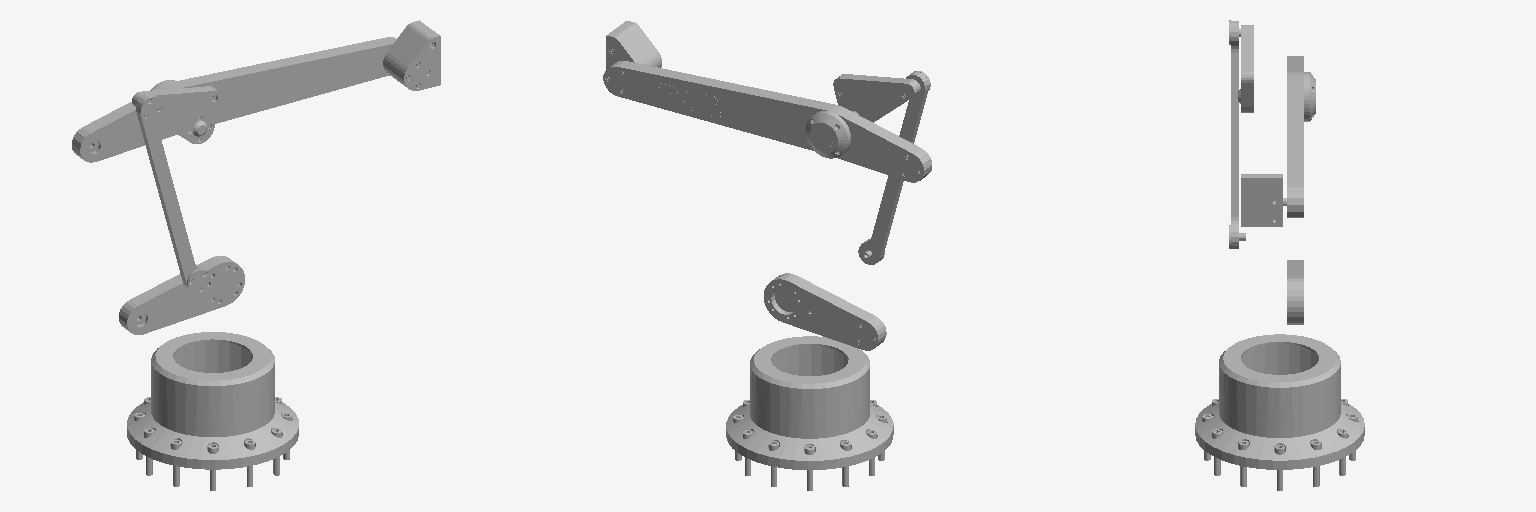
The robot description file, URDF, robot "vega_description":
<?xml version="1.0" encoding="utf-8"?>
<robot
  name="vega_description">

  <link
    name="Link_1">
    <inertial>
      <origin
        xyz="1.22743573927168E-05 -2.12020239797617E-06 0.0417491604335673"
        rpy="0 0 0" />
      <mass
        value="1.46638906209098" />
      <inertia
        ixx="0.00311535430398331"
        ixy="2.09807989848561E-07"
        ixz="1.66649061073481E-07"
        iyy="0.0031143541425315"
        iyz="3.36573233719113E-08"
        izz="0.00545821841694294" />
    </inertial>
    <visual>
      <origin
        xyz="0 0 0"
        rpy="1.571 0 0" />
      <geometry>
        <mesh
          filename="package://vega_description/meshes/Link_1.STL" />
      </geometry>
      <material
        name="">
        <color
          rgba="0.752941176470588 0.752941176470588 0.752941176470588 1" />
      </material>
    </visual>
    <collision>
      <origin
        xyz="0 0 0"
        rpy="0 0 0" />
      <geometry>
        <mesh
          filename="package://vega_description/meshes/Link_1.STL" />
      </geometry>
    </collision>
  </link>

  <link
    name="Link_2">
    <inertial>
      <origin
        xyz="0 0 0"
        rpy="0 0 0" />
      <mass
        value="2.8648922857987" />
      <inertia
        ixx="0.0045488257818998"
        ixy="-0.000195854703692343"
        ixz="3.21412134183932E-06"
        iyy="0.00794747497377555"
        iyz="5.03872017746305E-06"
        izz="0.00661354256671326" />
    </inertial>
    <visual>
      <origin
        xyz="0 0 0"
        rpy="0 0 0" />
      <geometry>
        <mesh
          filename="package://vega_description/meshes/Link_2.STL" />
      </geometry>
      <material
        name="">
        <color
          rgba="0.752941176470588 0.752941176470588 0.752941176470588 1" />
      </material>
    </visual>
    <collision>
      <origin
        xyz="0 0 0"
        rpy="0 0 0" />
      <geometry>
        <mesh
          filename="package://vega_description/meshes/Link_2.STL" />
      </geometry>
    </collision>
  </link>


  <joint
    name="Joint_1_2"
    type="revolute">
    <origin
      xyz="0 0 0.102"
      rpy="1.5707963267949 0 0" />
    <parent
      link="Link_1" />
    <child
      link="Link_2" />
    <axis
      xyz="0 1 0" />
    <limit
      lower="-3.142"
      upper="3.142"
      effort="10"
      velocity="2.094" />
  </joint>

  <link
    name="Link_3">
    <inertial>
      <origin
        xyz="0.118778332483488 -0.0107730885379603 5.2341464495953E-13"
        rpy="0 0 0" />
      <mass
        value="0.635661384166151" />
      <inertia
        ixx="0.000298348623915365"
        ixy="6.31060272864874E-06"
        ixz="-5.08825972892271E-14"
        iyy="0.00448845816808262"
        iyz="-2.55937357759991E-17"
        izz="0.00429172562634377" />
    </inertial>
    <visual>
      <origin
        xyz="0 0 0"
        rpy="0 0 0" />
      <geometry>
        <mesh
          filename="package://vega_description/meshes/Link_3.STL" />
      </geometry>
      <material
        name="">
        <color
          rgba="0.752941176470588 0.752941176470588 0.752941176470588 1" />
      </material>
    </visual>
    <collision>
      <origin
        xyz="0 0 0"
        rpy="0 0 0" />
      <geometry>
        <mesh
          filename="package://vega_description/meshes/Link_3.STL" />
      </geometry>
    </collision>
  </link>

  <joint
    name="Joint_2_3"
    type="revolute">
    <origin
      xyz="0.02 0.085 0.0265"
      rpy="-1.5708 0 1.8326" />
    <parent
      link="Link_2" />
    <child
      link="Link_3" />
    <axis
      xyz="0 1 0" />
    <limit
      lower="-3.142"
      upper="3.142"
      effort="50"
      velocity="2.094" />
  </joint>

  <link
    name="Link_4">
    <inertial>
      <origin
        xyz="0.0853087481110666 -0.0109027881973163 0.00273987445096585"
        rpy="0 0 0" />
      <mass
        value="0.445733094117697" />
      <inertia
        ixx="0.000124545025927191"
        ixy="-9.18984884658101E-07"
        ixz="0.000203813066958736"
        iyy="0.00609354602814492"
        iyz="-2.19558292990133E-07"
        izz="0.00599654478371796" />
    </inertial>
    <visual>
      <origin
        xyz="0 0 0"
        rpy="0 0 0" />
      <geometry>
        <mesh
          filename="package://vega_description/meshes/Link_4.STL" />
      </geometry>
      <material
        name="">
        <color
          rgba="0.752941176470588 0.752941176470588 0.752941176470588 1" />
      </material>
    </visual>
    <collision>
      <origin
        xyz="0 0 0"
        rpy="0 0 0" />
      <geometry>
        <mesh
          filename="package://vega_description/meshes/Link_4.STL" />
      </geometry>
    </collision>
  </link>

  <link
    name="Link_3_4">
  </link>

  <joint
    name="Joint_3_4_1"
    type="continuous">
    <mimic joint="Joint_2_3" multiplier="-1" offset="0"/>
    <origin
      xyz="0.25 0.055 0"
      rpy="0 1.309 3.1416" />
    <parent
      link="Link_3" />
    <child
      link="Link_3_4" />
    <axis
      xyz="0 -1 0" />
  </joint>

  <joint
    name="Joint_3_4_2"
    type="continuous">
    <mimic joint="Joint_2_6" multiplier="-1" offset="0"/>
    <origin
      xyz="0 0 0"
      rpy="0 0 0" />
    <parent
      link="Link_3_4" />
    <child
      link="Link_4" />
    <axis
      xyz="0 -1 0" />
  </joint>

  <link
    name="Link_5">
    <inertial>
      <origin
        xyz="0.00952764383358035 0.00817180619347385 0.0246303315536559"
        rpy="0 0 0" />
      <mass
        value="0.116143592433757" />
      <inertia
        ixx="5.42685200550782E-05"
        ixy="-5.2844222655857E-06"
        ixz="-1.11803694401409E-06"
        iyy="4.1289544024263E-05"
        iyz="-1.03212198470323E-06"
        izz="5.14314290266057E-05" />
    </inertial>
    <visual>
      <origin
        xyz="0 0 0"
        rpy="0 0 0" />
      <geometry>
        <mesh
          filename="package://vega_description/meshes/Link_5.STL" />
      </geometry>
      <material
        name="">
        <color
          rgba="0.752941176470588 0.752941176470588 0.752941176470588 1" />
      </material>
    </visual>
    <collision>
      <origin
        xyz="0 0 0"
        rpy="0 0 0" />
      <geometry>
        <mesh
          filename="package://vega_description/meshes/Link_5.STL" />
      </geometry>
    </collision>
  </link>

  <joint
    name="Joint_4_5"
    type="continuous">
    <mimic joint="Joint_2_6" multiplier="-1" offset="0"/>
    <origin
      xyz="0.3 0.025 0"
      rpy="-1.5708 0 0" />
    <parent
      link="Link_4" />
    <child
      link="Link_5" />
    <axis
      xyz="0 0 1" />
  </joint>

  <link
    name="Link_6">
    <inertial>
      <origin
        xyz="-0.0497529093598293 -1.11022302462516E-16 -0.00976909265143127"
        rpy="0 0 0" />
      <mass
        value="0.140467568500251" />
      <inertia
        ixx="3.35801010666134E-05"
        ixy="-8.86063009396581E-20"
        ixz="-9.81693731169107E-07"
        iyy="0.000250818338085388"
        iyz="-7.81409448092477E-22"
        izz="0.00027533816649807" />
    </inertial>
    <visual>
      <origin
        xyz="0 0 0"
        rpy="0 0 0" />
      <geometry>
        <mesh
          filename="package://vega_description/meshes/Link_6.STL" />
      </geometry>
      <material
        name="">
        <color
          rgba="0.752941176470588 0.752941176470588 0.752941176470588 1" />
      </material>
    </visual>
    <collision>
      <origin
        xyz="0 0 0"
        rpy="0 0 0" />
      <geometry>
        <mesh
          filename="package://vega_description/meshes/Link_6.STL" />
      </geometry>
    </collision>
  </link>

  <joint
    name="Joint_2_6"
    type="revolute">
    <origin
      xyz="0.02 0.085 -0.0285"
      rpy="0 0 0.17453" />
    <parent
      link="Link_2" />
    <child
      link="Link_6" />
    <axis
      xyz="0 0 1" />
    <limit
      lower="-3.142"
      upper="3.142"
      effort="15"
      velocity="2.094" />
  </joint>

  <link
    name="Link_7">
    <inertial>
      <origin
        xyz="-0.125000000000126 0.0145256299759448 1.9942193729694E-11"
        rpy="0 0 0" />
      <mass
        value="0.185381294040611" />
      <inertia
        ixx="2.15052563529523E-05"
        ixy="-1.30633349187441E-16"
        ixz="1.22586123313373E-15"
        iyy="0.000929029133376803"
        iyz="4.79835968979459E-18"
        izz="0.000920070080134663" />
    </inertial>
    <visual>
      <origin
        xyz="0 0 0"
        rpy="0 0 0" />
      <geometry>
        <mesh
          filename="package://vega_description/meshes/Link_7.STL" />
      </geometry>
      <material
        name="">
        <color
          rgba="0.752941176470588 0.752941176470588 0.752941176470588 1" />
      </material>
    </visual>
    <collision>
      <origin
        xyz="0 0 0"
        rpy="0 0 0" />
      <geometry>
        <mesh
          filename="package://vega_description/meshes/Link_7.STL" />
      </geometry>
    </collision>
  </link>

  <link
    name="Link_6_7">
  </link>

  <joint
    name="Joint_6_7_1"
    type="continuous">
    <mimic joint="Joint_2_3" multiplier="-1" offset="0"/>
    <origin
      xyz="-0.115 0 0.025"
      rpy="1.5708 0 1.6580" />
    <parent
      link="Link_6" />
    <child
      link="Link_6_7" />
    <axis
      xyz="0 1 0" />
  </joint>

  <joint
    name="Joint_6_7_2"
    type="continuous">
    <mimic joint="Joint_2_6" multiplier="-1" offset="0"/>
    <origin
      xyz="0 0 0"
      rpy="0 0 0" />
    <parent
      link="Link_6_7" />
    <child
      link="Link_7" />
    <axis
      xyz="0 1 0" />
  </joint>
  
  <link
    name="Link_8">
    <inertial>
      <origin
        xyz="0.124999999999945 0.0125783936076485 -0.00430959459606036"
        rpy="0 0 0" />
      <mass
        value="0.0582100308647699" />
      <inertia
        ixx="2.86183239644211E-06"
        ixy="4.78502659645735E-17"
        ixz="2.29009174515152E-16"
        iyy="0.000333498026117177"
        iyz="1.1482847436278E-08"
        izz="0.000331659164126847" />
    </inertial>

    <visual>
      <origin
        xyz="0 0 0"
        rpy="0 0 0" />
      <geometry>
        <mesh
          filename="package://vega_description/meshes/Link_8.STL" />
      </geometry>
      <material
        name="">
        <color
          rgba="0.752941176470588 0.752941176470588 0.752941176470588 1" />
      </material>
    </visual>
    <collision>
      <origin
        xyz="0 0 0"
        rpy="0 0 0" />
      <geometry>
        <mesh
          filename="package://vega_description/meshes/Link_8.STL" />
      </geometry>
    </collision>
  </link>

  <joint
    name="Joint_2_8"
    type="continuous">
    <mimic joint="Joint_2_3" multiplier="-1" offset="0"/>    
    <origin
      xyz="-0.055 0.135 0.049"
      rpy="1.5708 0 1.8326" />
    <parent
      link="Link_2" />
    <child
      link="Link_8" />
    <axis
      xyz="0 1 0" />
  </joint>

  <link
    name="Link_9">
    <inertial>
      <origin
        xyz="-0.020638001968642 0.0251648747005984 0.00755412551075126"
        rpy="0 0 0" />
      <mass
        value="0.0759175116389382" />
      <inertia
        ixx="2.55786826264463E-05"
        ixy="1.61897712492482E-05"
        ixz="3.04906371566611E-07"
        iyy="5.56852555396093E-05"
        iyz="-4.17249652012581E-07"
        izz="7.86790063401721E-05" />
    </inertial>
    <visual>
      <origin
        xyz="0.075 -0.05 0"
        rpy="0 0 0" />
      <geometry>
        <mesh
          filename="package://vega_description/meshes/Link_9.STL" />
      </geometry>
      <material
        name="">
        <color
          rgba="0.752941176470588 0.752941176470588 0.752941176470588 1" />
      </material>
    </visual>
    <collision>
      <origin
        xyz="0 0 0"
        rpy="0 0 0" />
      <geometry>
        <mesh
          filename="package://vega_description/meshes/Link_9.STL" />
      </geometry>
    </collision>
  </link>

  <joint
    name="Joint_8_9"
    type="continuous">
    <mimic joint="Joint_2_3" multiplier="1" offset="0"/>
    <origin
      xyz="0.25 -0.0175 0"
      rpy="1.5708 -1.309 3.1416" />
    <parent
      link="Link_8" />
    <child
      link="Link_9" />
    <axis
      xyz="0 0 1" />
  </joint>

  <link
    name="Link_10">
    <inertial>
      <origin
        xyz="0.151523838773093 0.0120793005495848 -0.00451680024396695"
        rpy="0 0 0" />
      <mass
        value="0.0676472542576388" />
      <inertia
        ixx="3.54922400123965E-06"
        ixy="-2.99865301015401E-16"
        ixz="4.85967691354056E-15"
        iyy="0.000543285324126437"
        iyz="1.19005104729777E-08"
        izz="0.000541662726314469" />
    </inertial>
    <visual>
      <origin
        xyz="0 0 0"
        rpy="0 0 0" />
      <geometry>
        <mesh
          filename="package://vega_description/meshes/Link_10.STL" />
      </geometry>
      <material
        name="">
        <color
          rgba="0.752941176470588 0.752941176470588 0.752941176470588 1" />
      </material>
    </visual>
    <collision>
      <origin
        xyz="0 0 0"
        rpy="0 0 0" />
      <geometry>
        <mesh
          filename="package://vega_description/meshes/Link_10.STL" />
      </geometry>
    </collision>
  </link>
  
  <joint
    name="Joint_9_10"
    type="continuous">
    <mimic joint="Joint_2_6" multiplier="1" offset="0"/>
    <origin
      xyz="0.095 -0.015 0.0175"
      rpy="1.5708 0 0" />
    <parent
      link="Link_9" />
    <child
      link="Link_10" />
    <axis
      xyz="0 1 0" />
  </joint>
</robot>

--- Render facts (derived) ---
3 views of the same robot in one strip: view 1: azimuth 30°, elevation 25°; view 2: azimuth 150°, elevation 25°; view 3: azimuth 270°, elevation 25° (orthographic).
Robot: vega_description — 12 links, 11 joints (3 revolute, 8 continuous); root link Link_1; default pose: every joint at zero.
Links seen in each view (by area): view 1: Link_1, Link_4, Link_6, Link_8, Link_5, Link_9; view 2: Link_1, Link_4, Link_6, Link_9, Link_8, Link_5; view 3: Link_1, Link_4, Link_5, Link_8, Link_9, Link_6.
Boxes of the visible links, x1=… form: Link_1: x1=127, y1=332, x2=298, y2=490; Link_4: x1=72, y1=37, x2=396, y2=162; Link_6: x1=119, y1=256, x2=244, y2=334; Link_8: x1=136, y1=93, x2=209, y2=292; Link_5: x1=383, y1=20, x2=440, y2=90; Link_9: x1=132, y1=86, x2=221, y2=143; Link_1: x1=726, y1=336, x2=893, y2=490; Link_4: x1=603, y1=61, x2=931, y2=182; Link_6: x1=764, y1=273, x2=886, y2=350; Link_9: x1=833, y1=74, x2=920, y2=122; Link_8: x1=858, y1=71, x2=930, y2=264; Link_5: x1=606, y1=21, x2=661, y2=68; Link_1: x1=1195, y1=334, x2=1364, y2=490; Link_4: x1=1287, y1=56, x2=1315, y2=217; Link_5: x1=1241, y1=174, x2=1286, y2=226; Link_8: x1=1229, y1=20, x2=1245, y2=248; Link_9: x1=1238, y1=25, x2=1253, y2=112; Link_6: x1=1287, y1=260, x2=1303, y2=324.
Bounding box of the posed robot: 0.4632 × 0.205 × 0.5275 m (x, y, z).
Meshes: 10 distinct files referenced, 6 mesh visuals loaded (6 binary STL); not drawn: 4 (reference not matched to a file when rendering).
